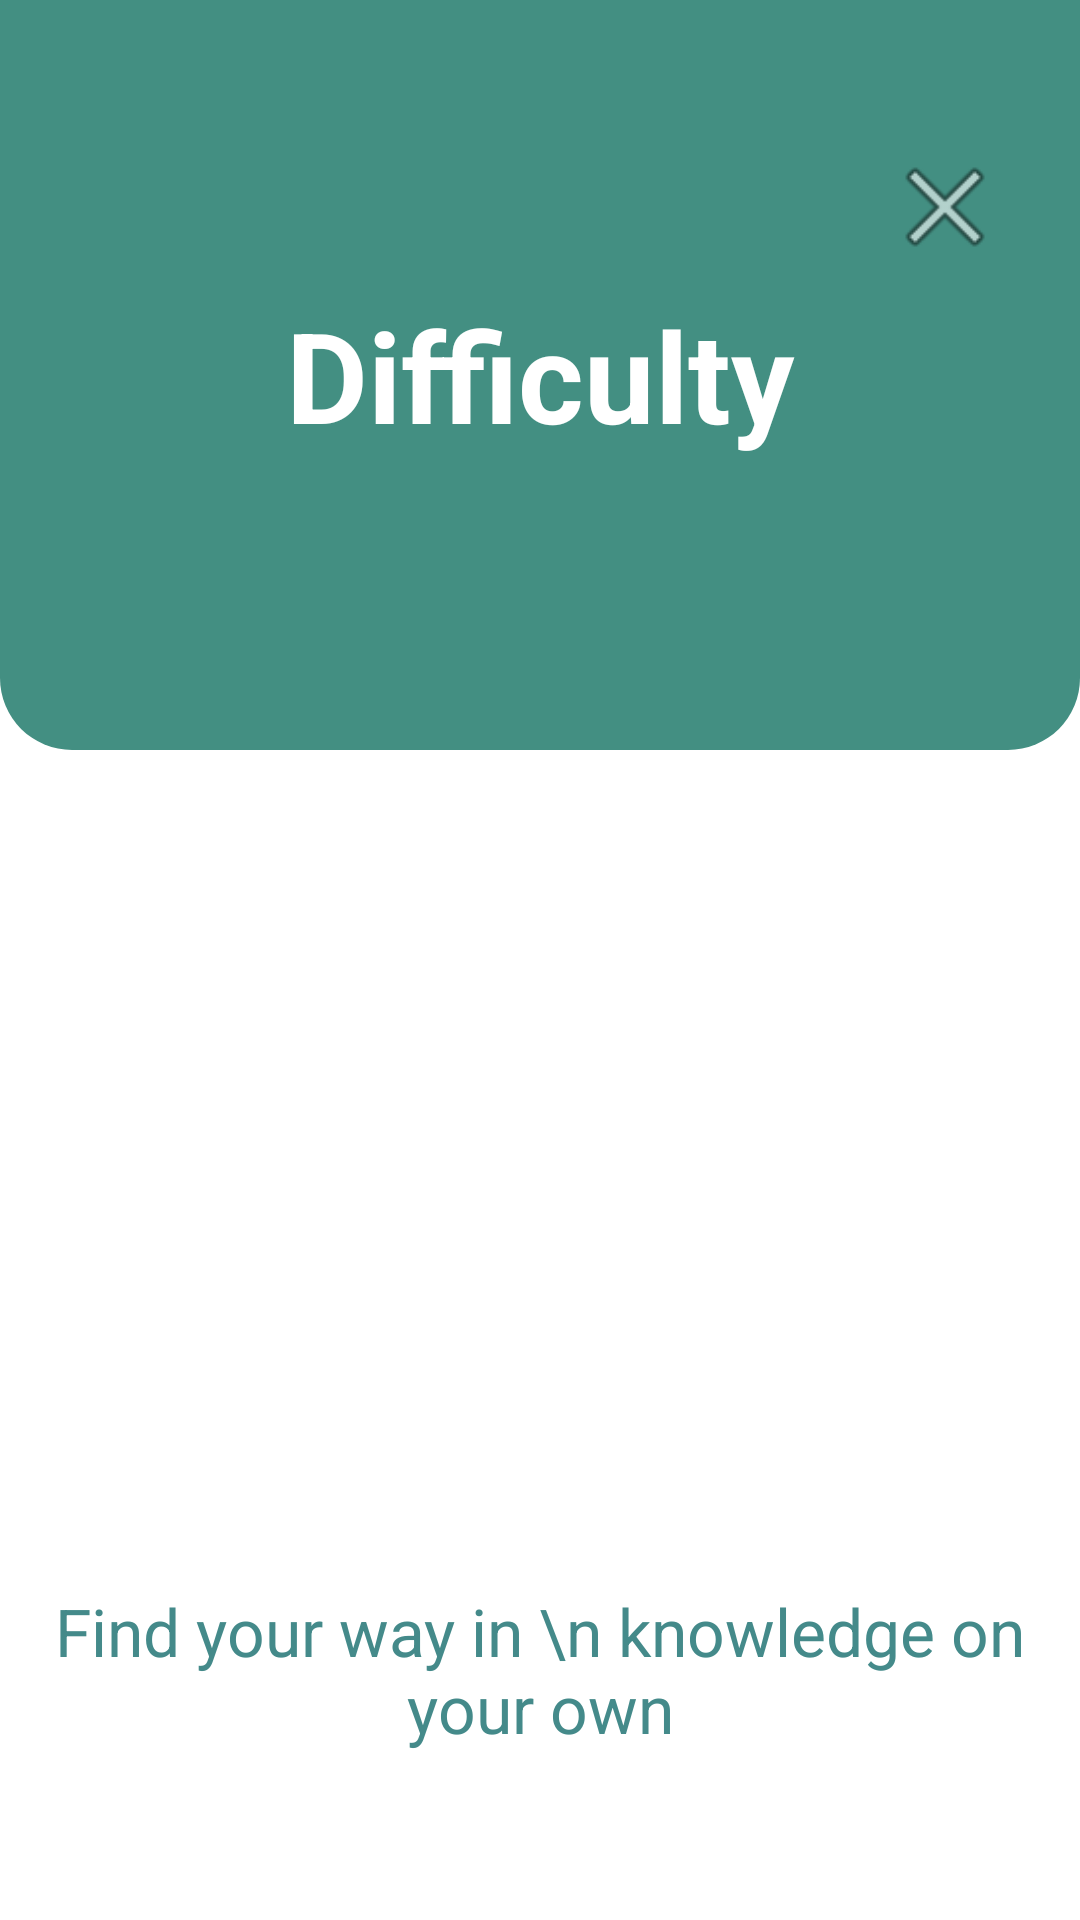

Screen size 1080 x 1920. Icon name, then its center in pixels as (x,y):
close clear cancel: (945,207)
